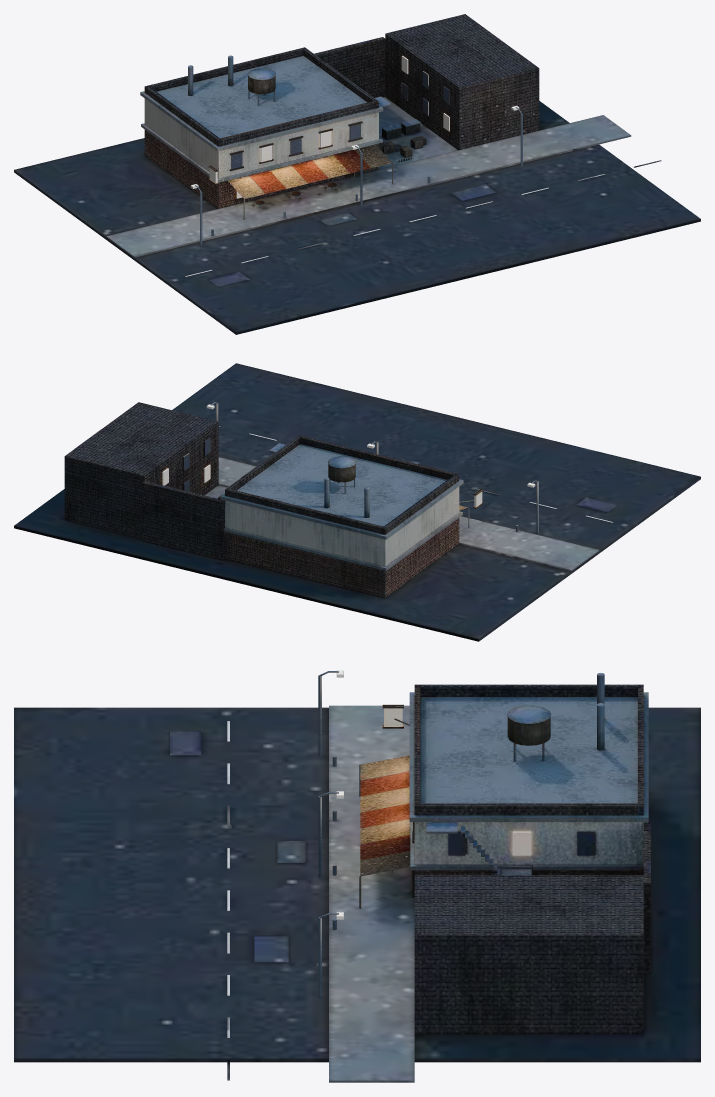
Rendered from lower_bar_low.glb.
The picture shows the model from 3 angles, top to bottom: view 1: azimuth 30°, elevation 25°; view 2: azimuth 150°, elevation 25°; view 3: azimuth 270°, elevation 25°; orthographic projection. The views are drawn at different scales.
Visible parts, largest first — view 1: site_ground, props_bar, props_alley, props_street; view 2: site_ground, props_bar, props_alley; view 3: site_ground, props_bar, props_alley, props_street.
Boxes of the visible parts, x1,y1,x2,y2 form: site_ground: (14, 97, 700, 334); props_bar: (140, 47, 393, 219); props_alley: (314, 14, 539, 162); props_street: (190, 105, 522, 244); site_ground: (14, 363, 700, 641); props_bar: (220, 435, 482, 597); props_alley: (64, 402, 285, 560); site_ground: (14, 705, 700, 1082); props_bar: (359, 673, 648, 908); props_alley: (414, 822, 650, 1034); props_street: (318, 670, 392, 998).
Bounding box in the file's own units: 62 × 11.25 × 48.
4 materials, 4 textured.
